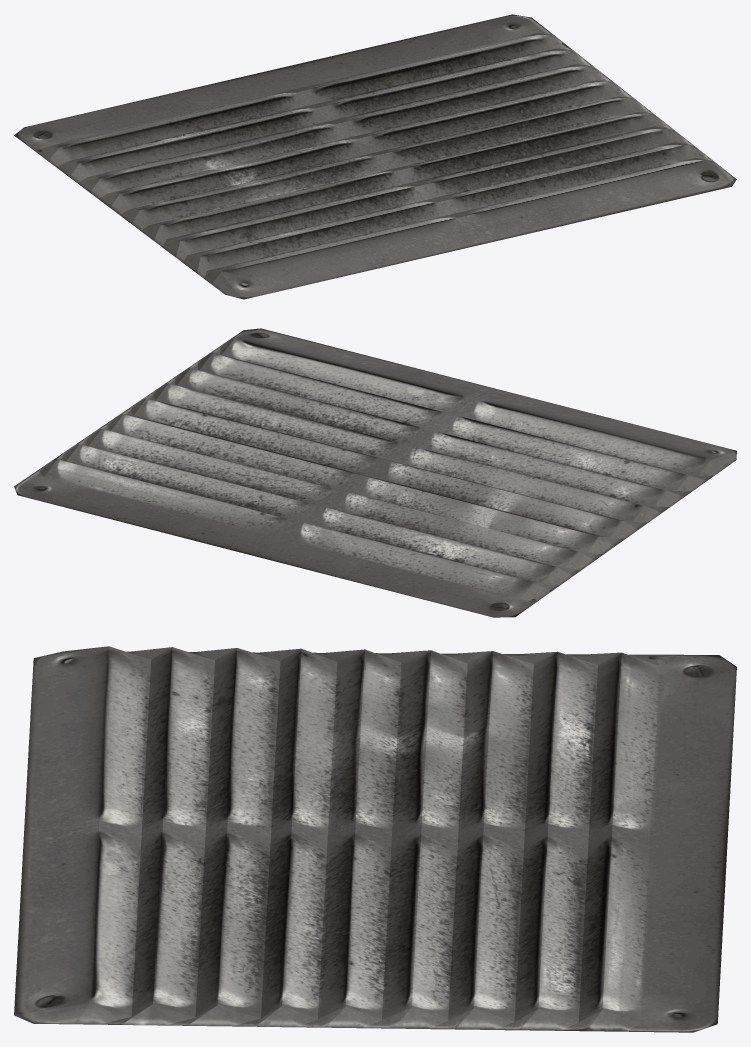
Rendered from Aeration2.glb.
3 renders of one model, top to bottom at view 1: azimuth 30°, elevation 25°; view 2: azimuth 150°, elevation 25°; view 3: azimuth 270°, elevation 25°, orthographic. The views are drawn at different scales.
Parts seen in each view (by area): view 1: Aeration.001; view 2: Aeration.001; view 3: Aeration.001.
Boxes of the visible parts, <box> form: Aeration.001: <box>14,14,736,299</box>; Aeration.001: <box>14,328,736,617</box>; Aeration.001: <box>14,646,736,1032</box>.
Bounding box in the file's own units: 1.05 × 0.0165 × 0.8408.
Materials: 1 (1 with a texture image).
